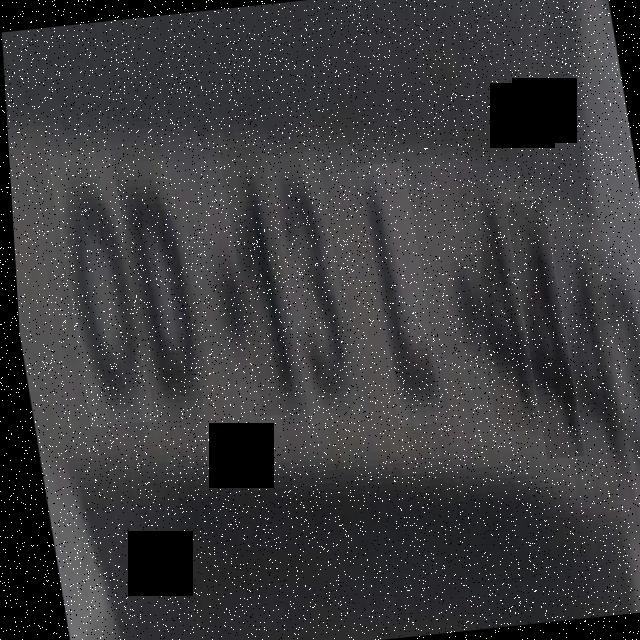1: (216, 145, 298, 416)
3: (264, 151, 355, 429), (594, 265, 640, 526)
4: (452, 165, 535, 434), (547, 227, 627, 502), (502, 198, 579, 459)
D: (113, 158, 204, 416)
L: (353, 160, 441, 428)
O: (44, 148, 149, 427)
